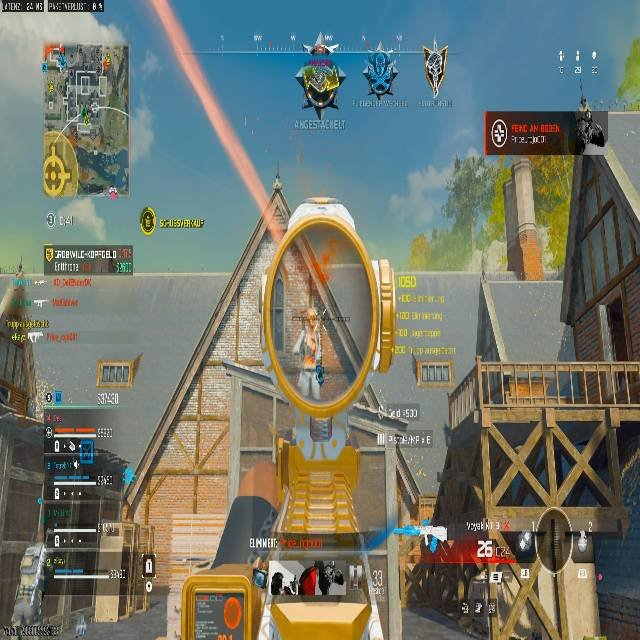head: (373, 53, 387, 68)
player: (293, 49, 347, 114), (362, 54, 398, 98)
